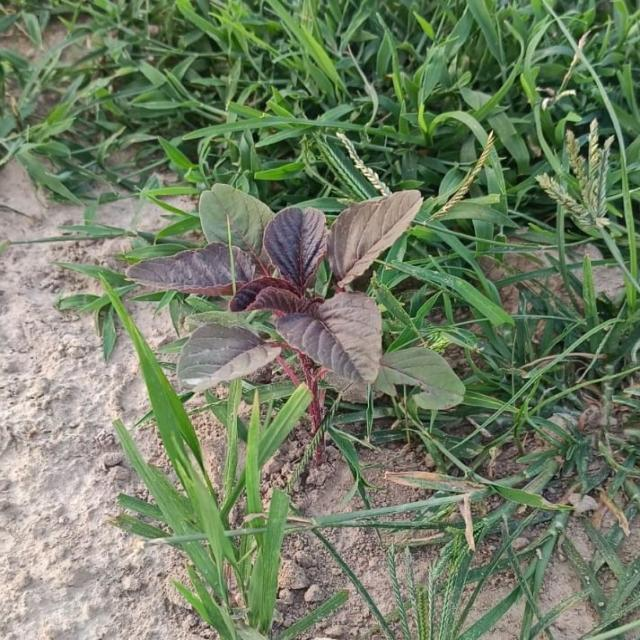plant: (127, 184, 463, 421)
